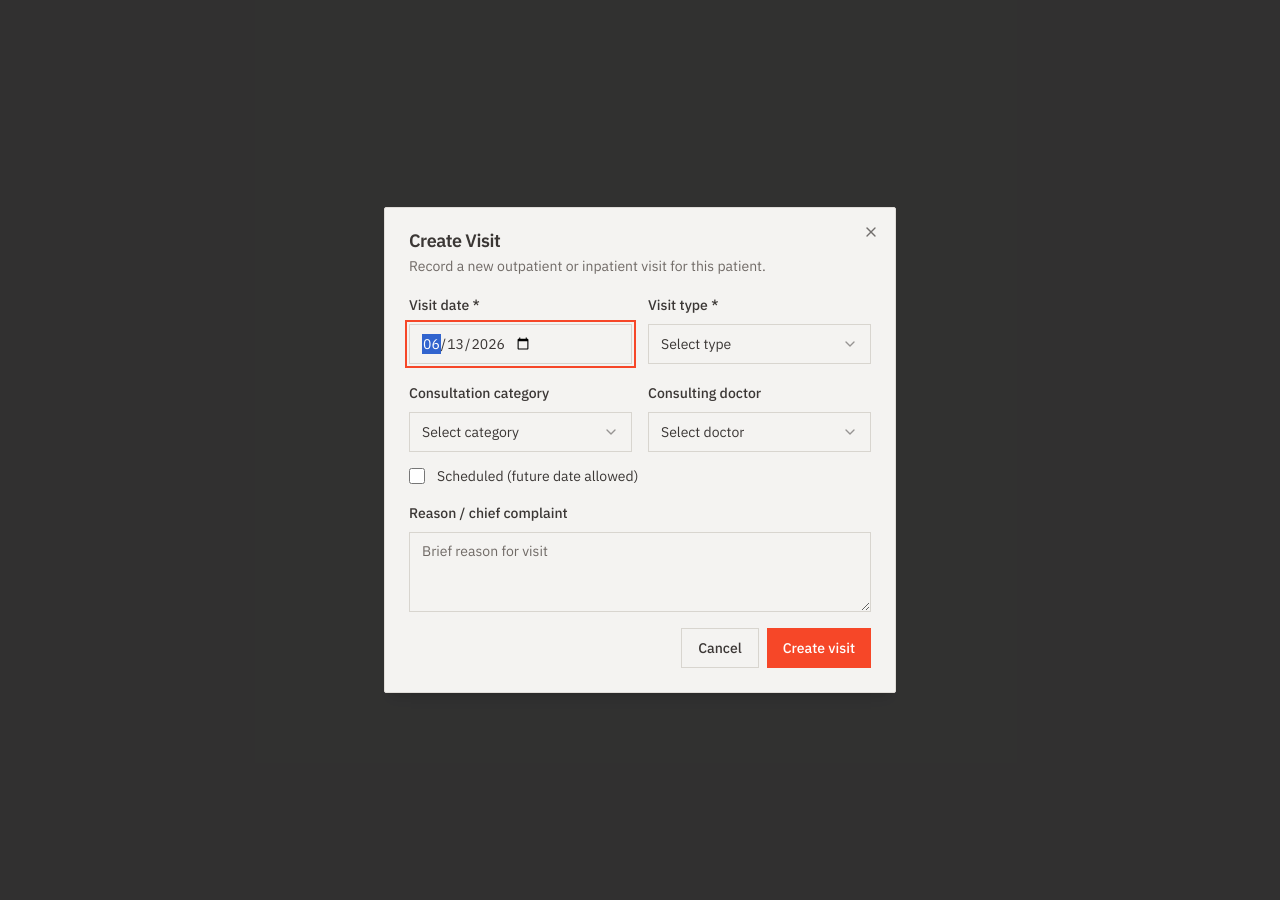
Test: VisitFormDialog — successful submission › shows API validation error on 422 response
The image size is (1280, 900).
Expected: the dialog "Create Visit" is shown, [384, 207, 896, 693]
Click the dropdown named "visit type". click: point(760, 344)
box: [648, 324, 871, 364]
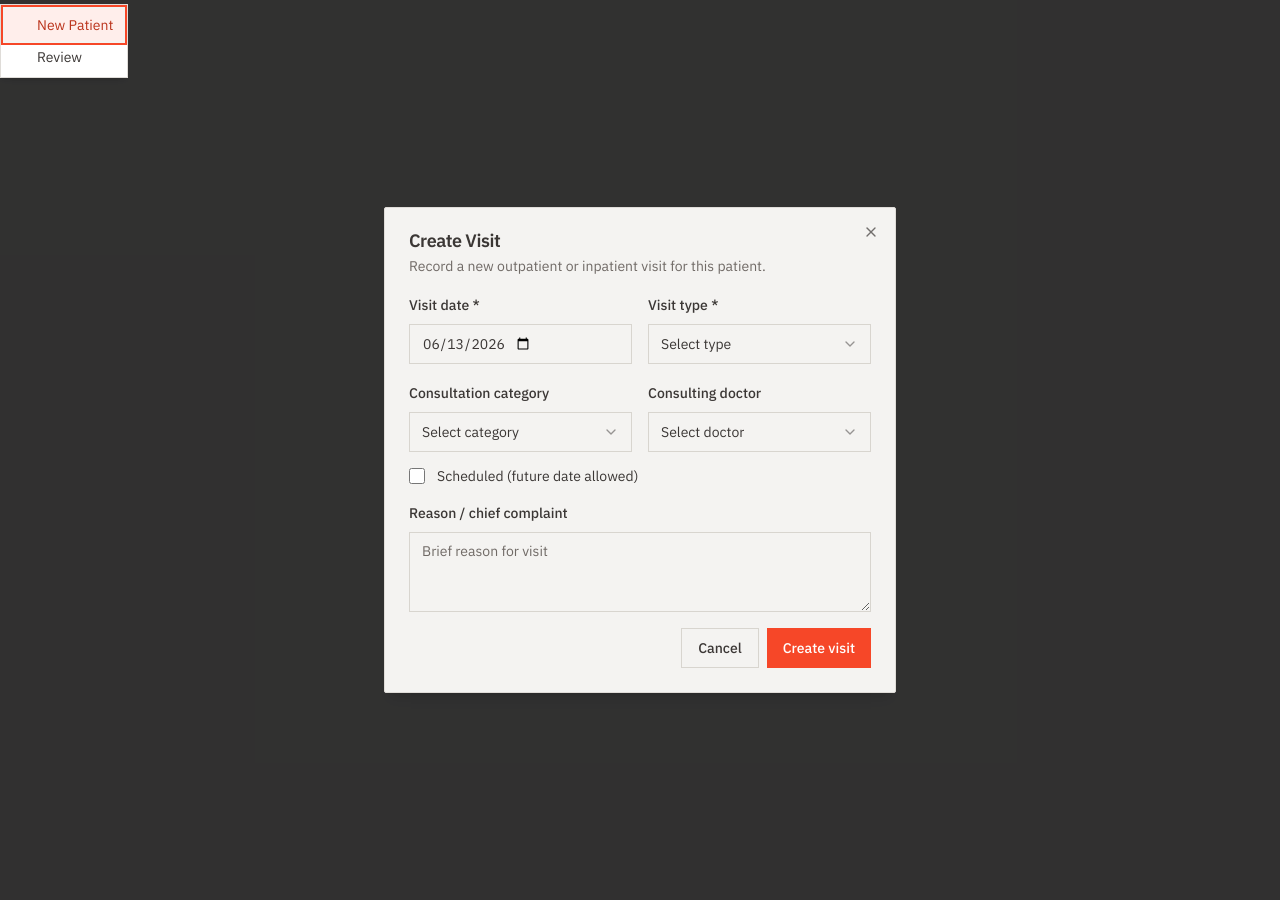
Click the option "New Patient". click: point(64, 25)
box: [5, 9, 123, 41]
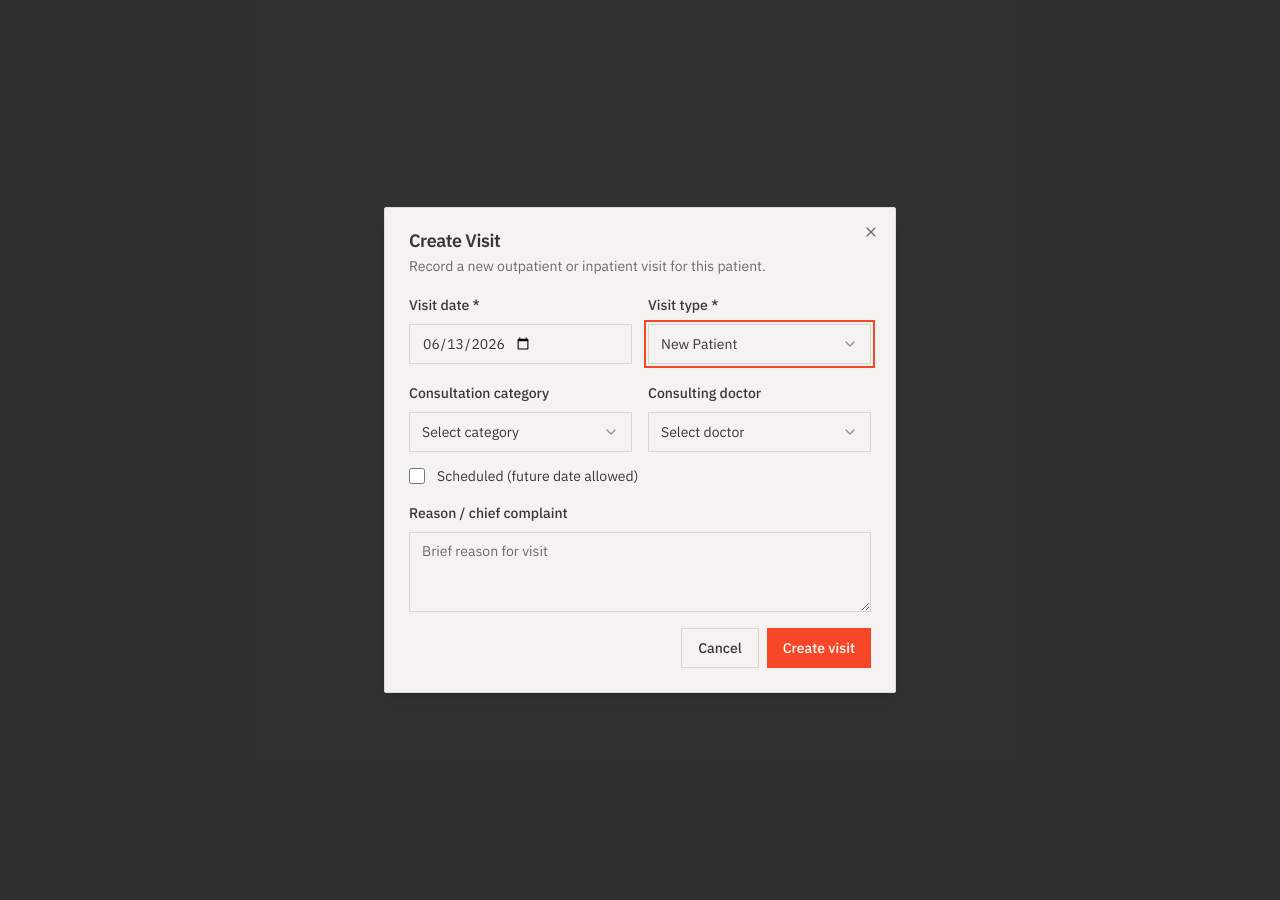
Click the button "Create visit". click: point(819, 648)
box: [767, 628, 871, 668]
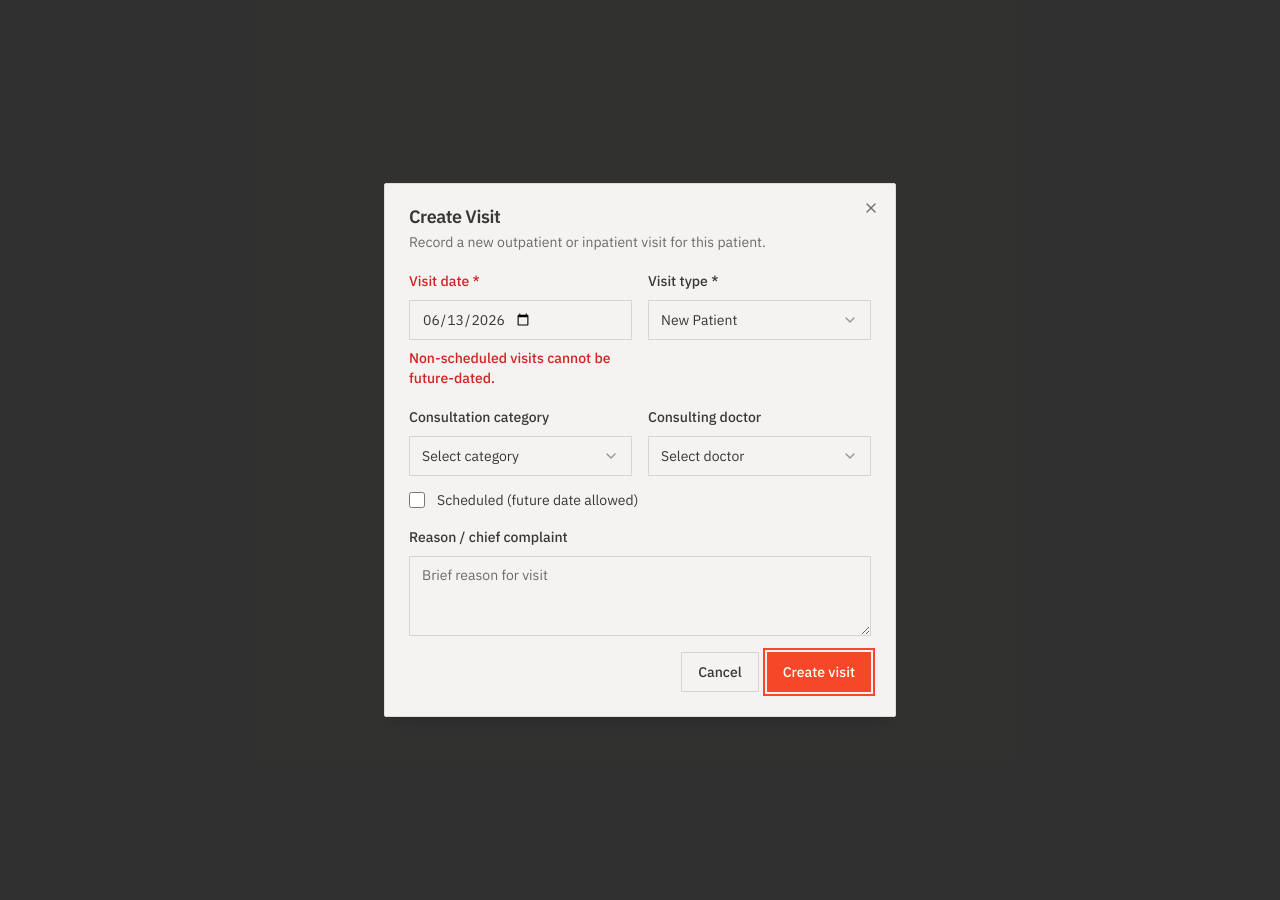
Result: the text "Non-scheduled visits cannot be future-dated." is shown at [409, 348, 632, 388]
